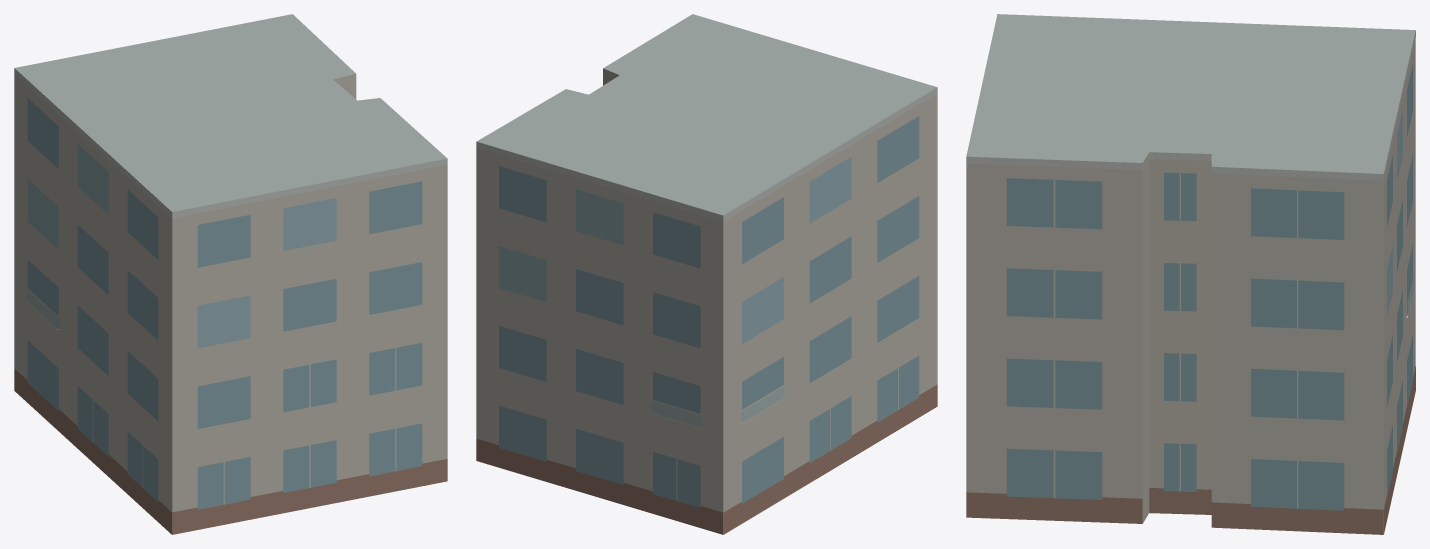
The model's file is survey-upis-32525680.glb.
3 views of the same model, side by side, from view 1: azimuth 30°, elevation 25°; view 2: azimuth 150°, elevation 25°; view 3: azimuth 270°, elevation 25° (orthographic). The views are drawn at different scales.
Visible parts, largest first — view 1: survey-upis-32525680.tmp; view 2: survey-upis-32525680.tmp; view 3: survey-upis-32525680.tmp.
Part boxes in pixels (<box>): survey-upis-32525680.tmp: <box>14,14,447,534</box>; survey-upis-32525680.tmp: <box>476,14,937,534</box>; survey-upis-32525680.tmp: <box>966,14,1415,534</box>.
Size of the model in its own units: 12.09 by 12.7 by 14.35.
